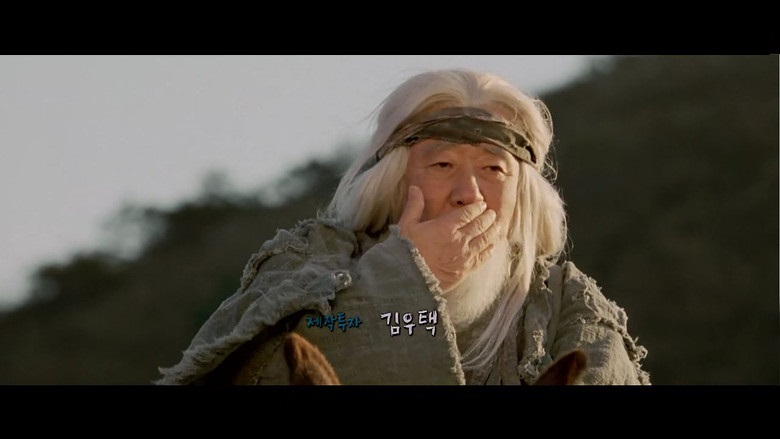face: (404, 123, 519, 266)
